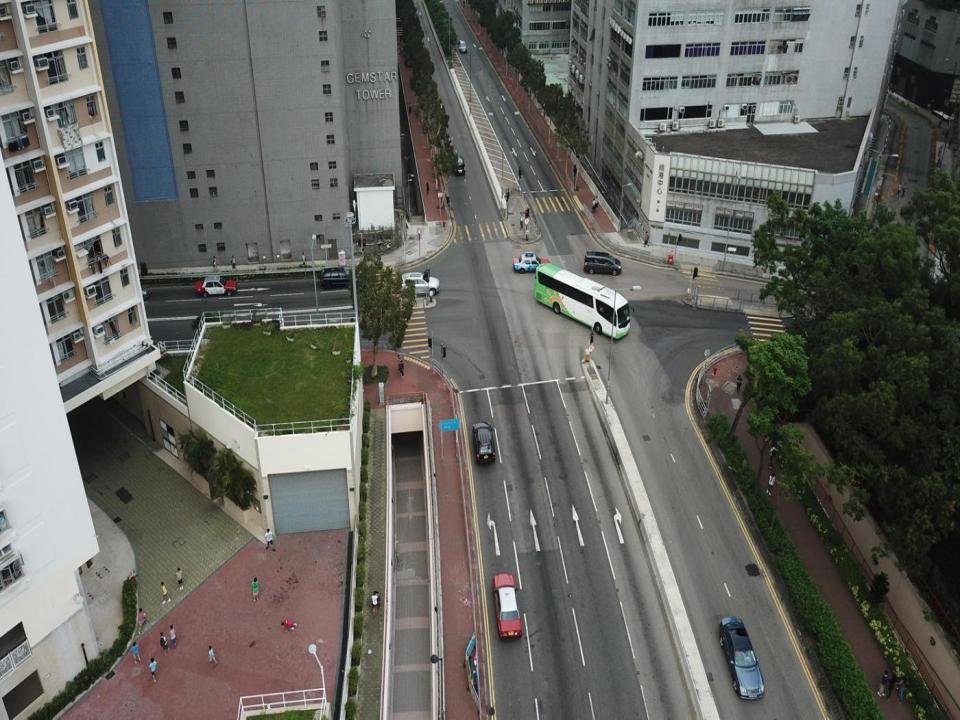bus: (534, 261, 632, 340)
car: (719, 616, 765, 700), (491, 573, 522, 638), (393, 271, 439, 296), (472, 421, 498, 465), (195, 274, 236, 297), (514, 253, 551, 272), (448, 151, 464, 175), (458, 38, 468, 55)
van: (583, 250, 622, 275), (320, 268, 360, 288)
